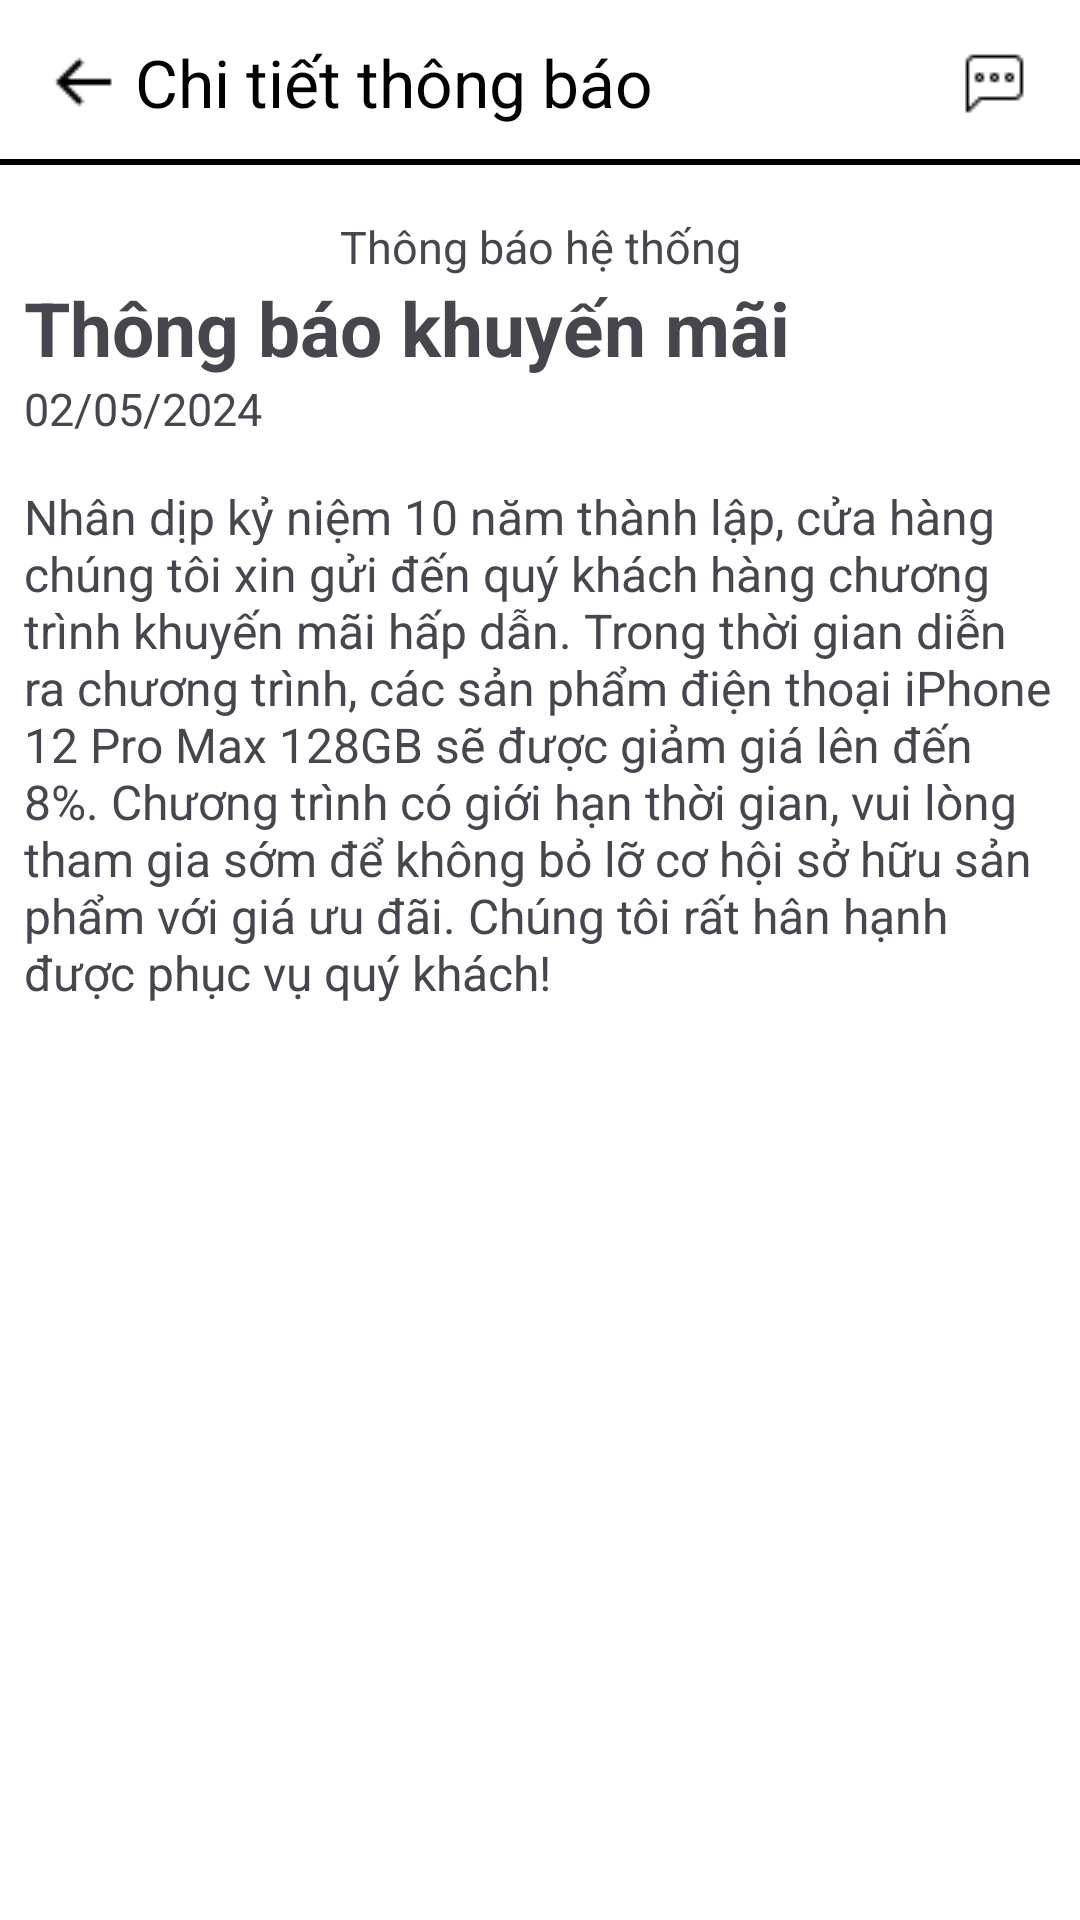

Screen size 1080x1920. Icon name, then its center in pixels as [x,y]:
backicon: [84,82]
messageicon: [994,83]
